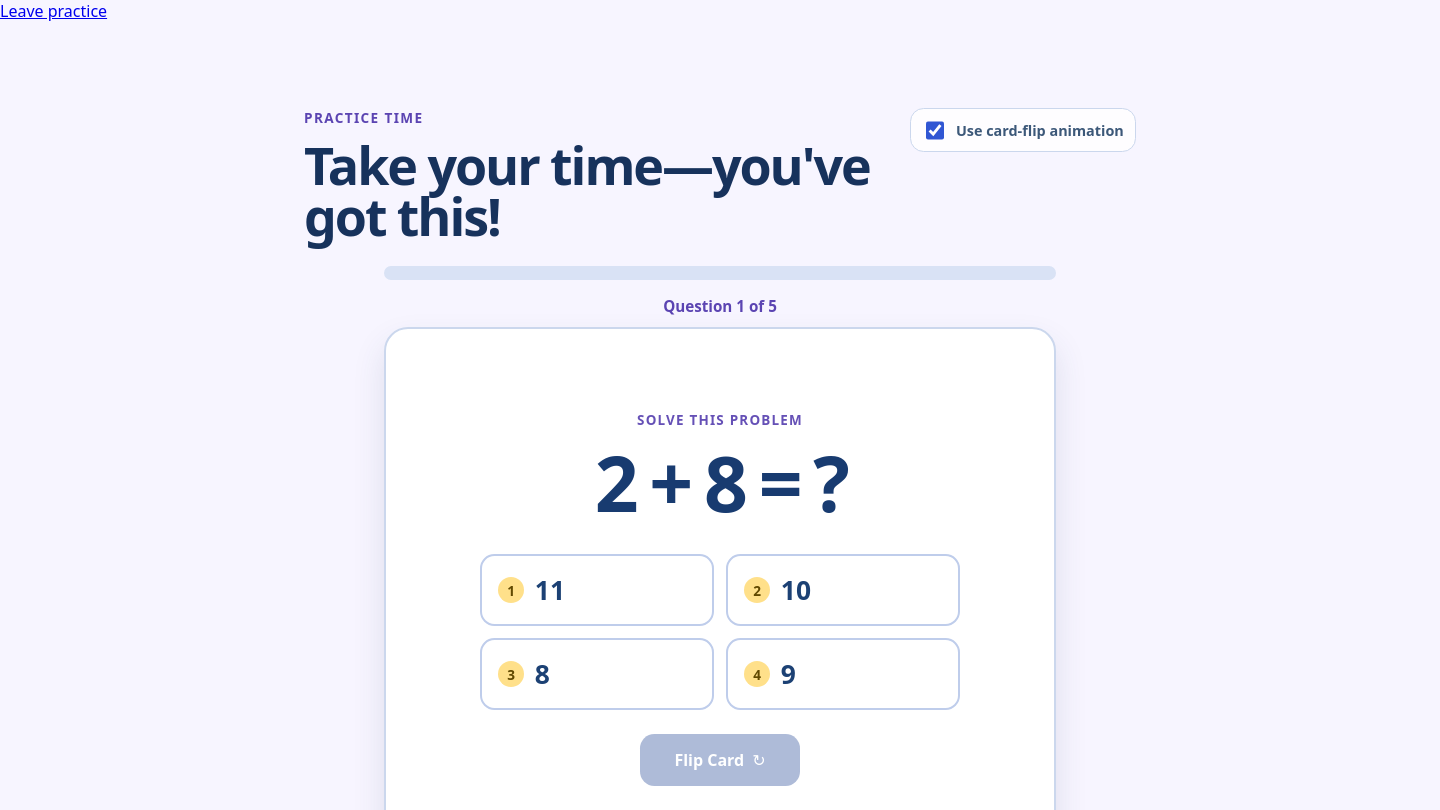
Test: PracticeSessionPage › lets a child continue or end an active session before leaving
Click the link "Leave practice". click: (54, 11)
box: top-left (0, 0), bottom-right (107, 22)
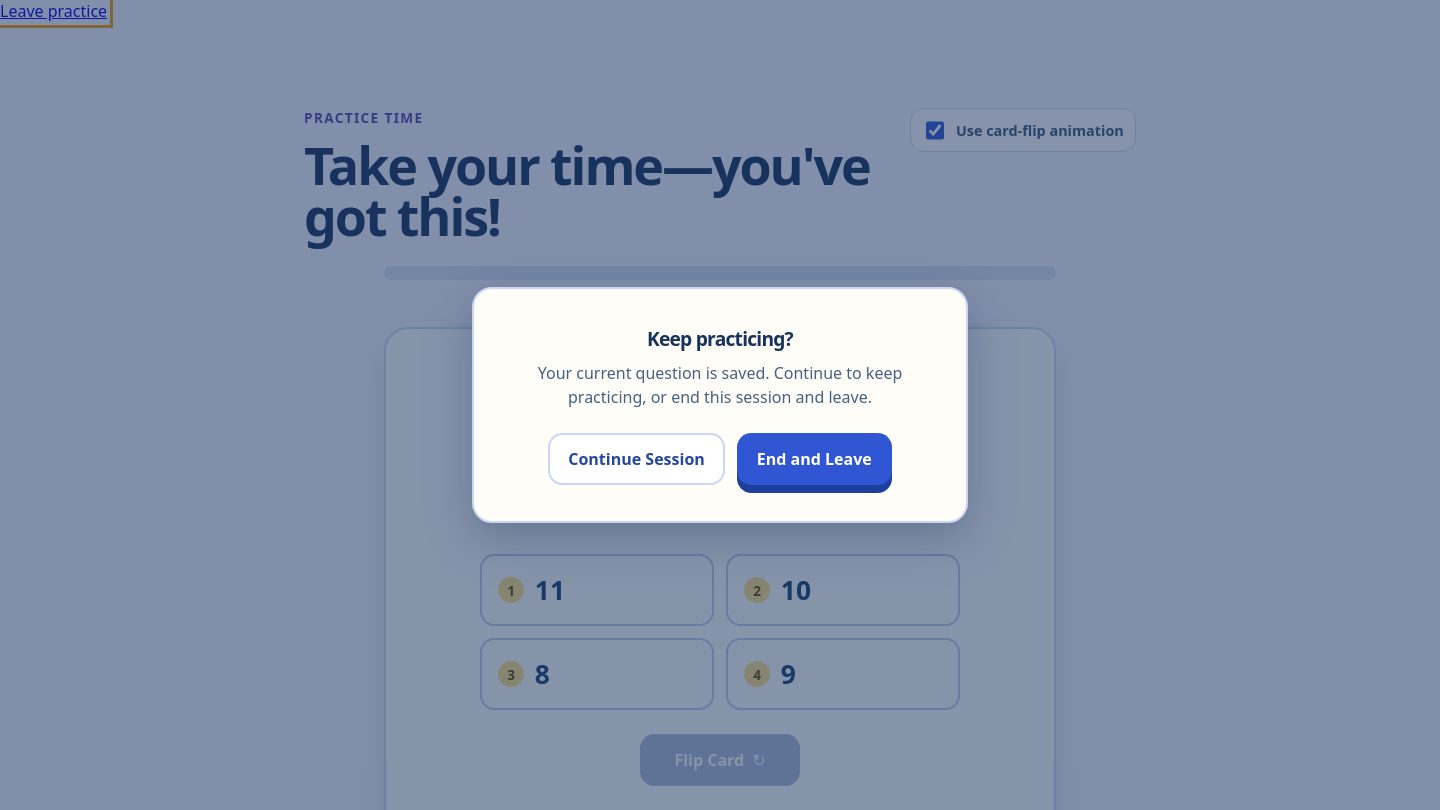
Expected: the dialog "Keep practicing" is shown
Click the button "Continue Session". click: (637, 459)
box: top-left (548, 433), bottom-right (725, 485)
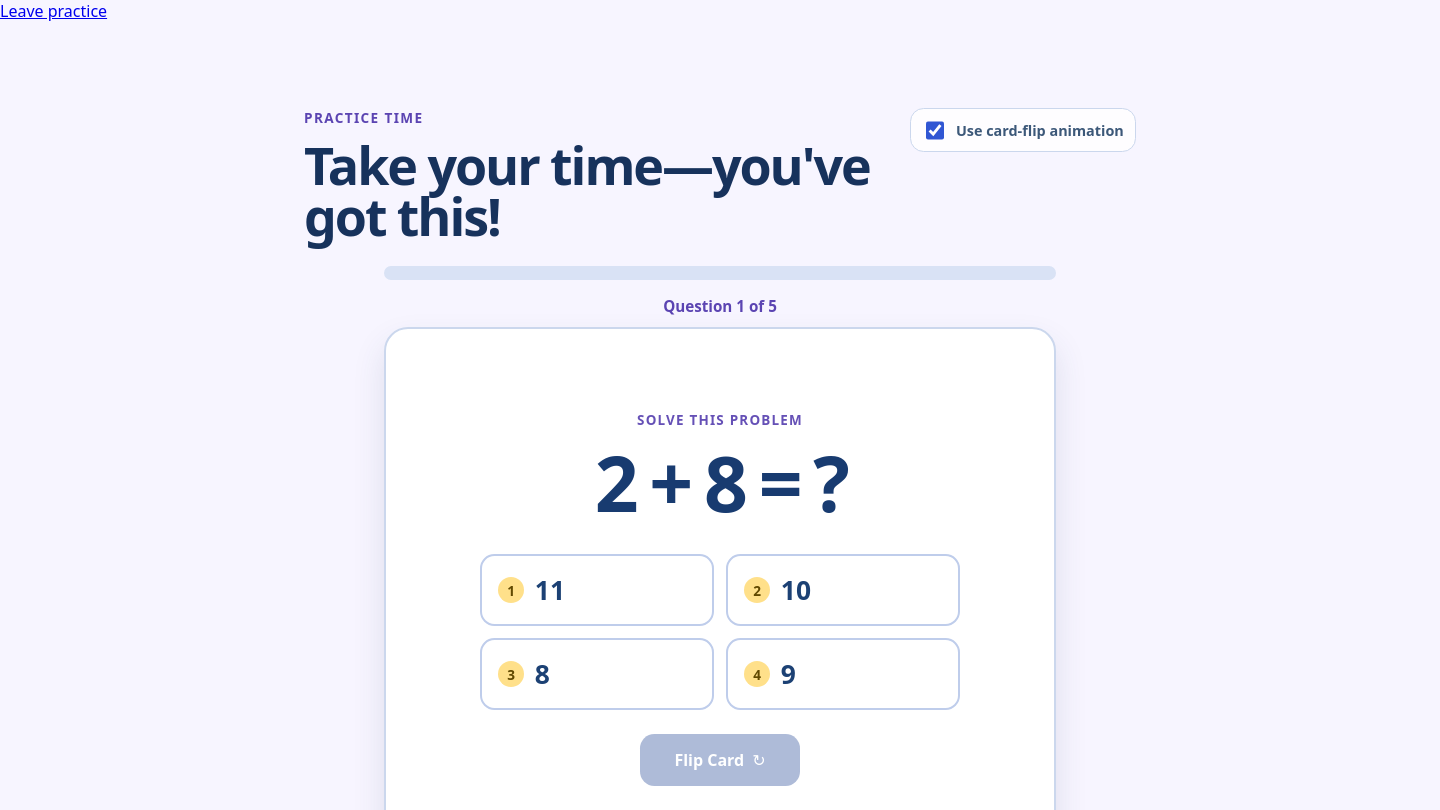
Expected: the text "Question 1 of 5" is shown, top-left (663, 296), bottom-right (777, 316)
Expected: the dialog is gone
Click the link "Leave practice". click: (54, 11)
box: top-left (0, 0), bottom-right (107, 22)
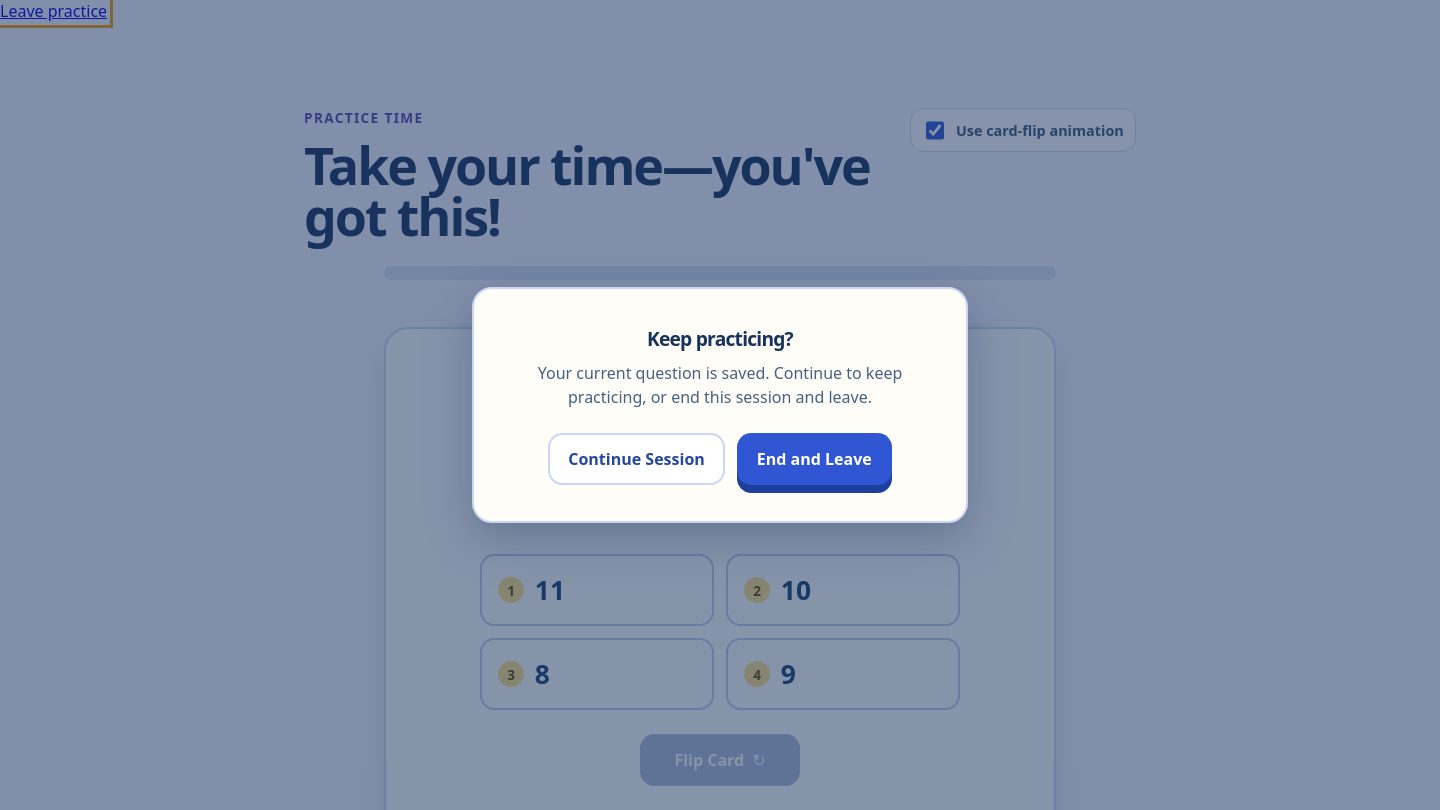
Click the button "End and Leave". click: (814, 459)
box: top-left (737, 433), bottom-right (892, 485)
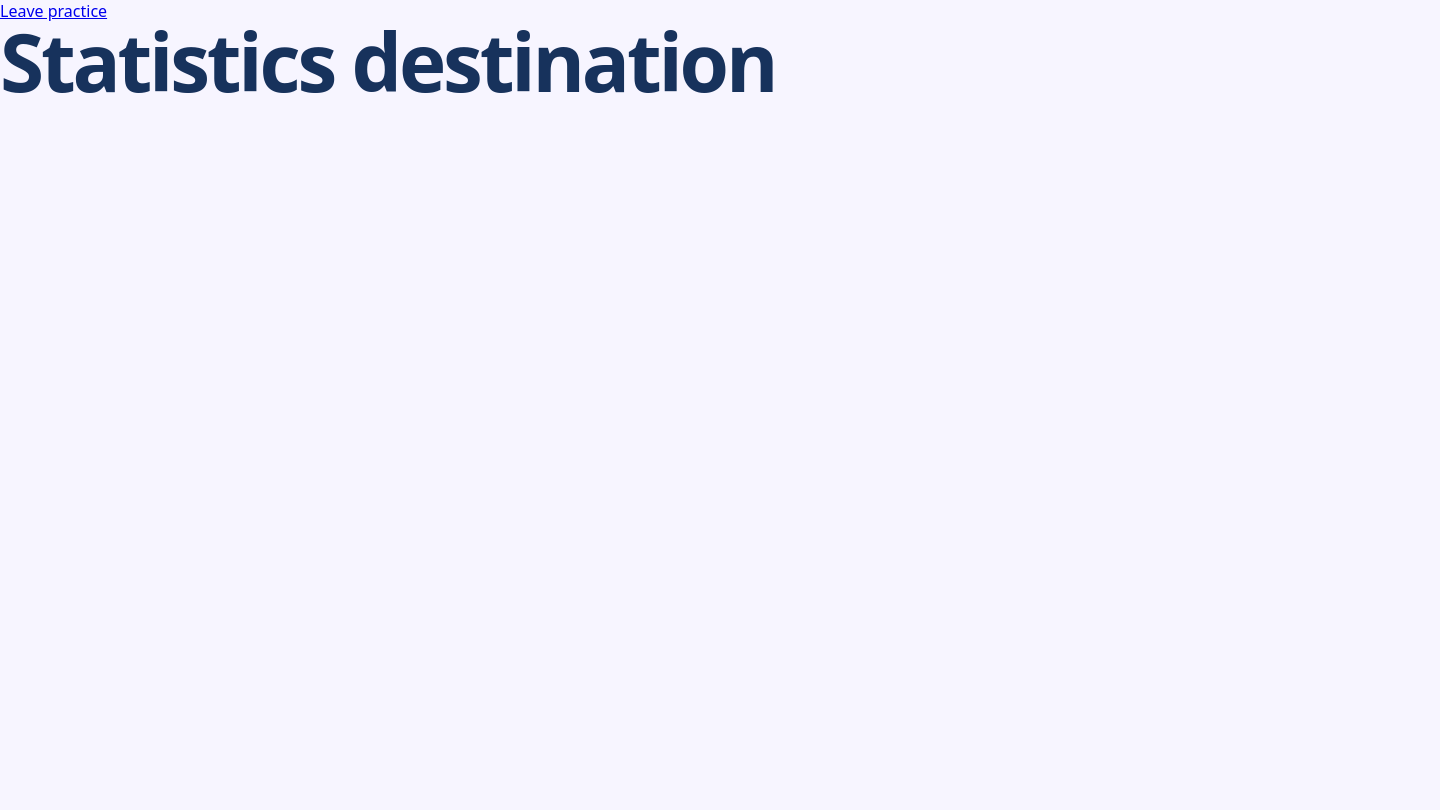
Expected: the heading "Statistics destination" is shown, top-left (0, 6), bottom-right (775, 115)
